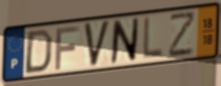D: (22, 28, 54, 76)
F: (54, 24, 82, 72)
L: (140, 15, 165, 62)
N: (109, 16, 140, 66)
V: (82, 18, 112, 70)
Z: (168, 9, 198, 60)
